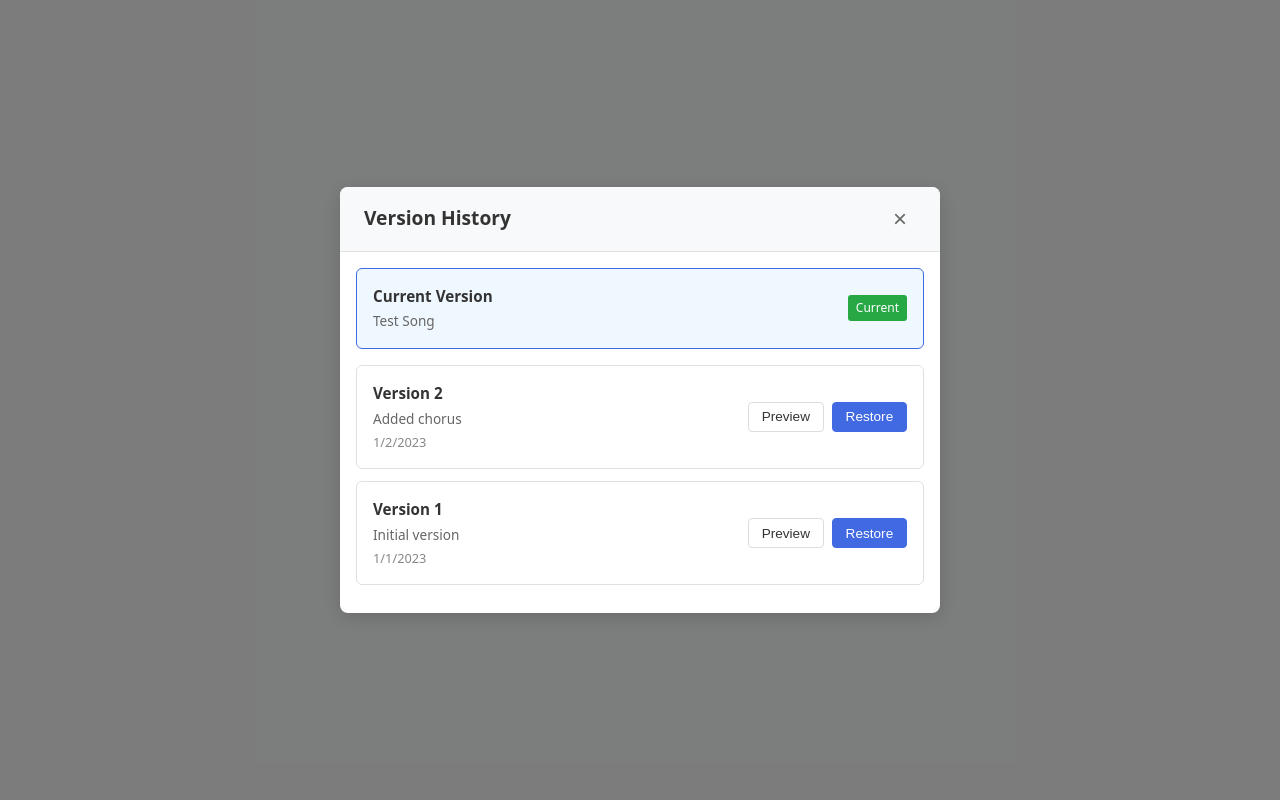
Test: HistoryPanel › shows content preview when version is selected
Expected: the text "Version 2" is shown, [373,383,443,403]
Click the button "Preview" in the row of "Added chorus".
click(786, 417)  # box [748,402,824,432]
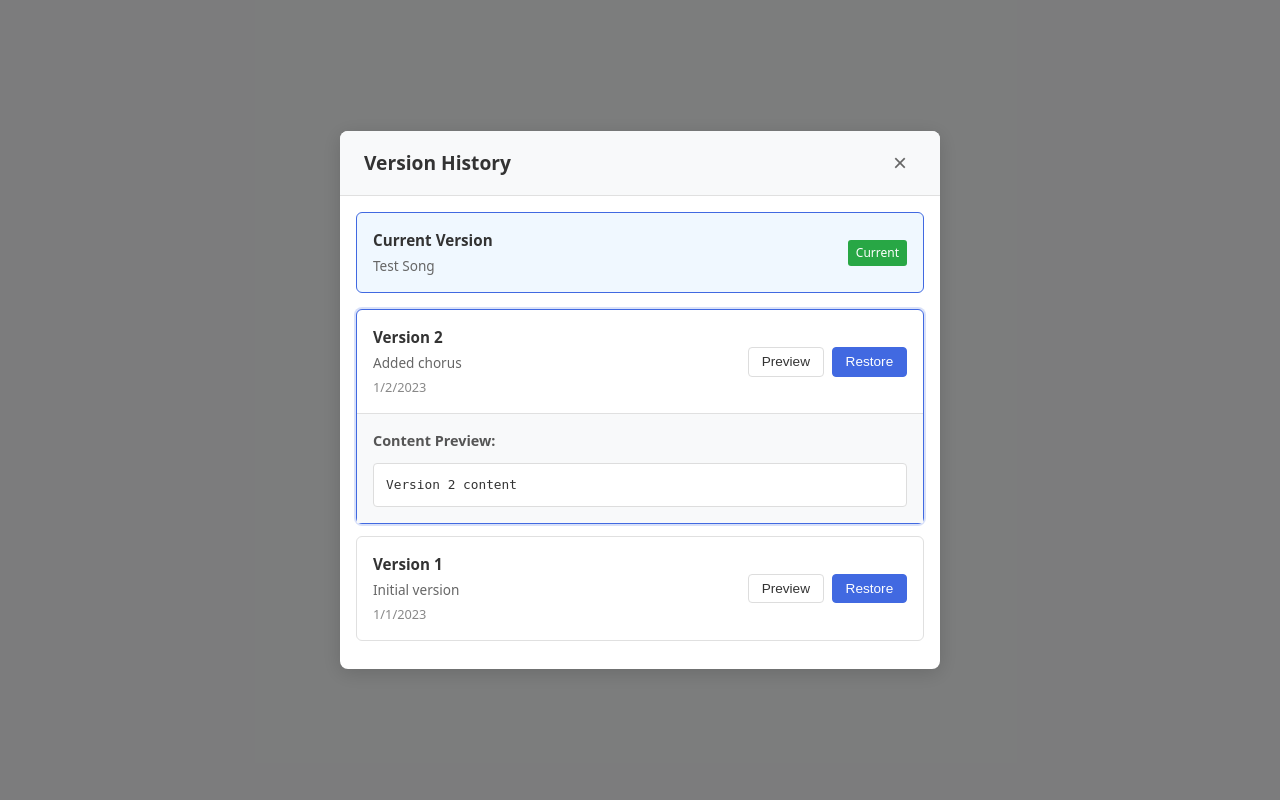
Expected: the heading "Content Preview:" is shown, [373,431,495,450]
Expected: the text "Version 2 content" is shown, [373,463,907,507]
